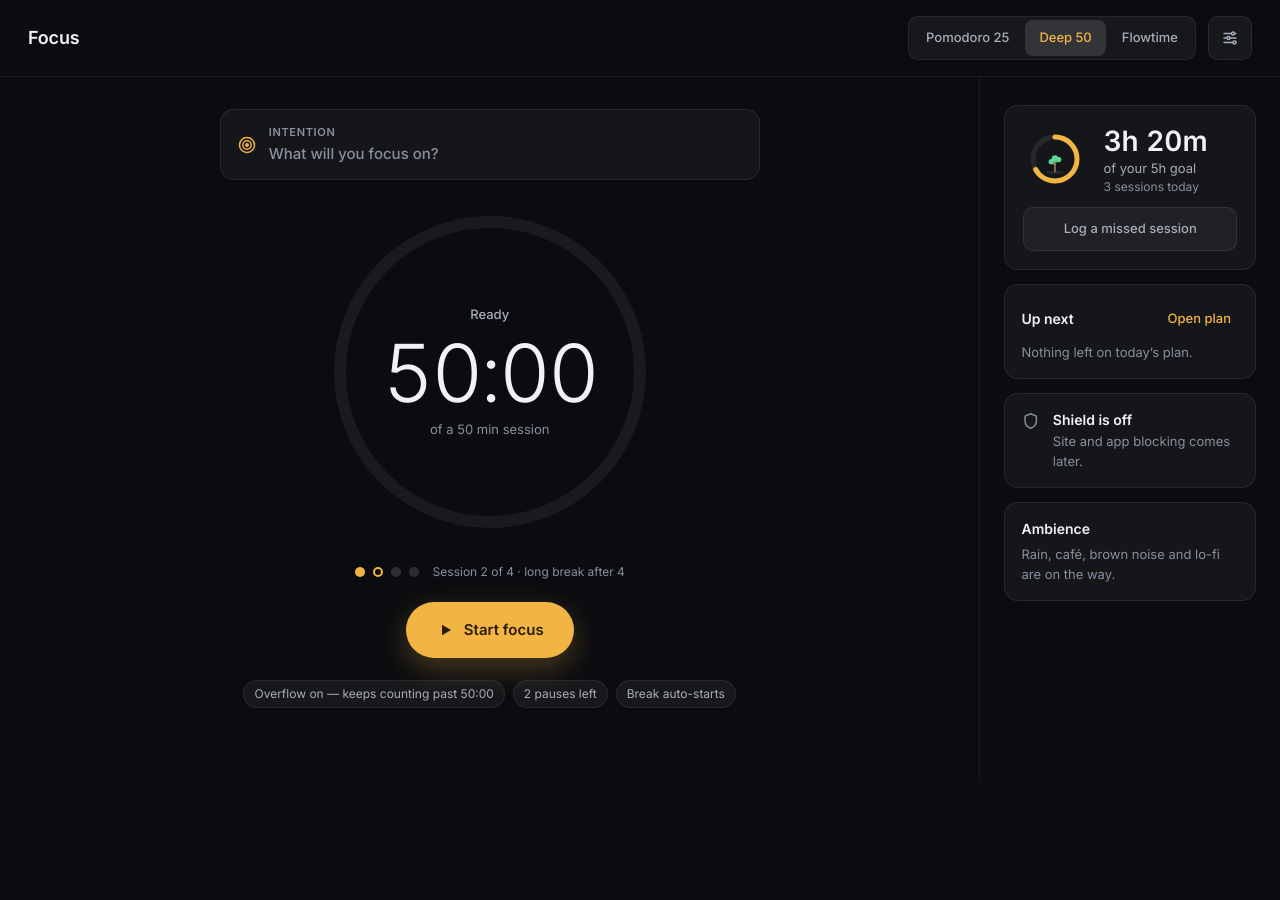
Scenario: FocusScreen › closes settings on a click outside, but not inside
The image size is (1280, 900).
Click the button named "Timer settings": (1230,38) [1208,16,1252,60]
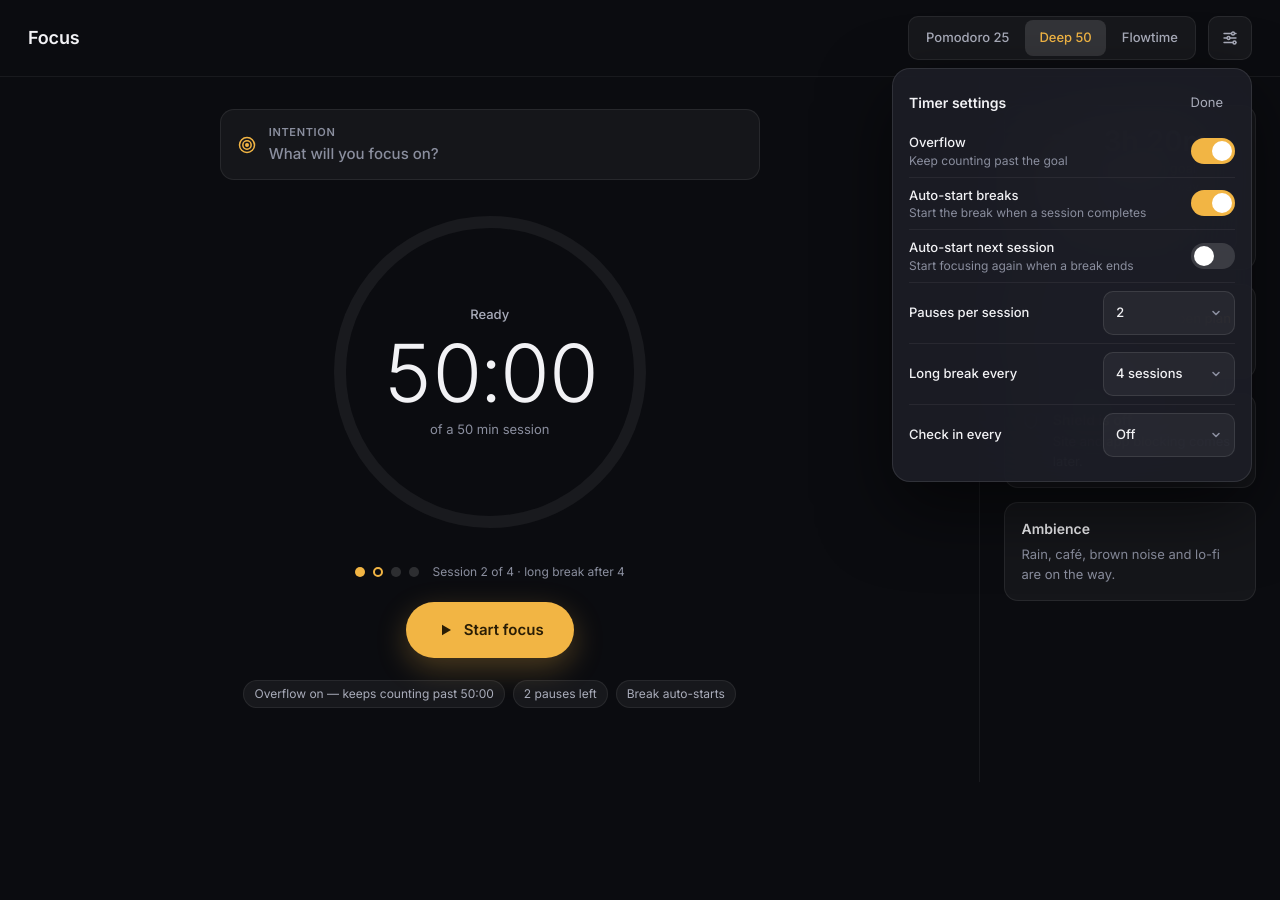
Press the mouse on the switch labelled "Overflow Keep counting past the goal": (937,142) [909,125,1235,178]
Check: the dialog "Timer settings" is shown, box [892,68,1252,482]
Press the mouse on the text "50:00": (490,373) [382,333,597,413]
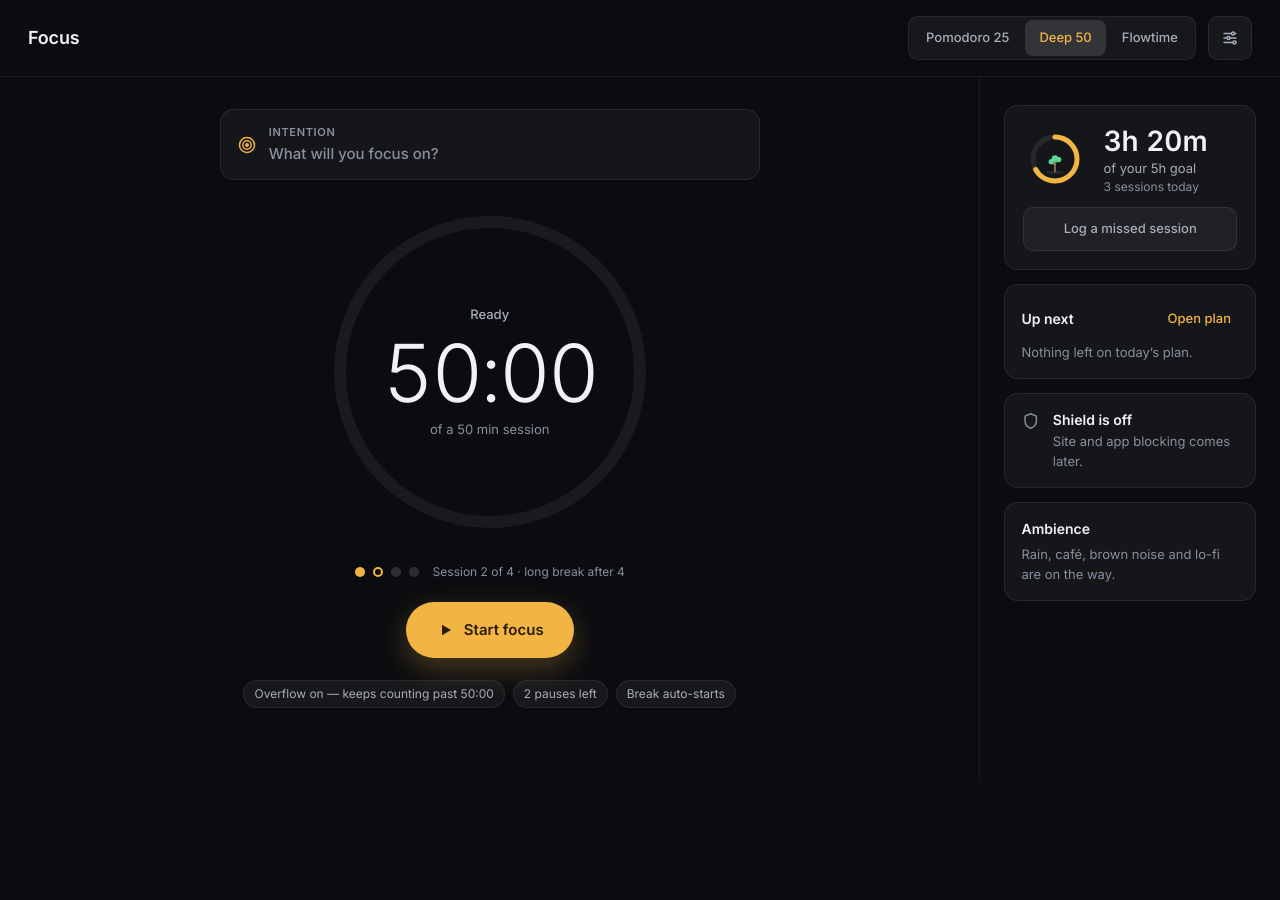
Check: the heading "Timer settings" is gone
